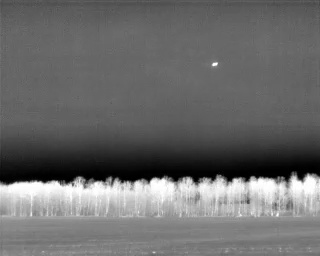DRONE: (209, 58, 222, 70)
